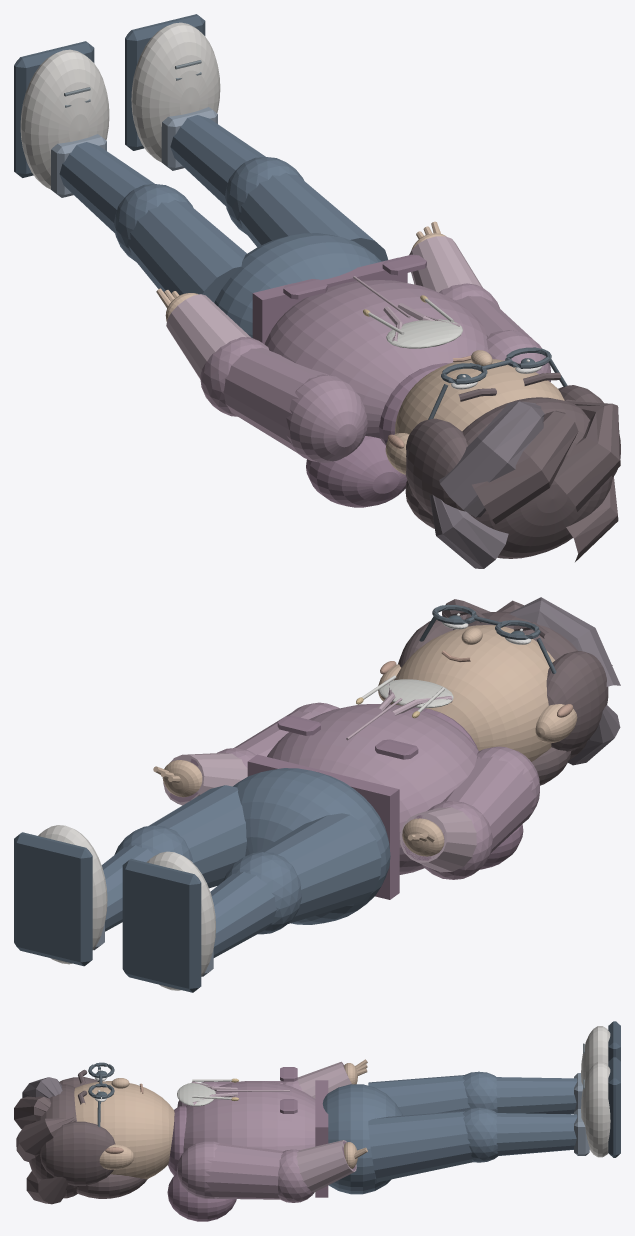
The model's file is designer_turnLeft_0.glb.
3 views of the same model, one above another, from view 1: azimuth 30°, elevation 25°; view 2: azimuth 150°, elevation 25°; view 3: azimuth 270°, elevation 25° (orthographic). The views are drawn at different scales.
Visible parts, largest first — view 1: 0000__hoodie_main_torso, 0046__jeans_thigh, 0050__sneaker, 0069__sneaker, 0014__pants_pelvis, 0022__hair_crown, 0065__jeans_thigh, 0017__face_head, 0056__hoodie_shoulder, 0057__sleeve_upper, 0026__hair_lock_0, 0027__hair_lock_1 (+21 smaller); view 2: 0000__hoodie_main_torso, 0017__face_head, 0051__rubber_sole, 0070__rubber_sole, 0014__pants_pelvis, 0046__jeans_thigh, 0065__jeans_thigh, 0057__sleeve_upper, 0024__temple_side, 0048__jeans_shin, 0015__hoodie_hem, 0047__knee_fold (+21 smaller); view 3: 0000__hoodie_main_torso, 0017__face_head, 0065__jeans_thigh, 0014__pants_pelvis, 0076__sleeve_upper, 0025__temple_side, 0067__jeans_shin, 0048__jeans_shin, 0046__jeans_thigh, 0069__sneaker, 0078__sleeve_forearm, 0075__hoodie_shoulder (+19 smaller).
Boxes of the visible parts, <box> form: 0000__hoodie_main_torso: <box>264,280,488,438</box>; 0046__jeans_thigh: <box>128,200,246,302</box>; 0050__sneaker: <box>20,49,109,189</box>; 0069__sneaker: <box>131,22,220,162</box>; 0014__pants_pelvis: <box>214,233,381,337</box>; 0022__hair_crown: <box>462,397,612,558</box>; 0065__jeans_thigh: <box>239,173,388,261</box>; 0017__face_head: <box>395,359,564,434</box>; 0056__hoodie_shoulder: <box>286,374,367,462</box>; 0057__sleeve_upper: <box>223,347,328,452</box>; 0026__hair_lock_0: <box>439,401,544,517</box>; 0027__hair_lock_1: <box>472,410,578,524</box>; 0000__hoodie_main_torso: <box>267,704,478,874</box>; 0017__face_head: <box>390,625,554,761</box>; 0051__rubber_sole: <box>122,858,201,992</box>; 0070__rubber_sole: <box>14,832,92,966</box>; 0014__pants_pelvis: <box>233,768,390,924</box>; 0046__jeans_thigh: <box>257,813,381,923</box>; 0065__jeans_thigh: <box>149,785,246,888</box>; 0057__sleeve_upper: <box>441,756,535,853</box>; 0024__temple_side: <box>546,651,608,751</box>; 0048__jeans_shin: <box>210,871,276,957</box>; 0015__hoodie_hem: <box>247,754,399,899</box>; 0047__knee_fold: <box>223,852,301,934</box>; 0000__hoodie_main_torso: <box>183,1081,315,1151</box>; 0017__face_head: <box>74,1081,174,1179</box>; 0065__jeans_thigh: <box>368,1111,473,1182</box>; 0014__pants_pelvis: <box>322,1084,402,1194</box>; 0076__sleeve_upper: <box>205,1142,283,1199</box>; 0025__temple_side: <box>40,1121,115,1185</box>; 0067__jeans_shin: <box>496,1113,577,1155</box>; 0048__jeans_shin: <box>496,1077,577,1114</box>; 0046__jeans_thigh: <box>368,1075,470,1115</box>; 0069__sneaker: <box>581,1062,610,1157</box>; 0078__sleeve_forearm: <box>296,1140,356,1192</box>; 0075__hoodie_shoulder: <box>177,1141,219,1198</box>.
Bounding box in the file's own units: 0.764 × 0.5728 × 2.07.
